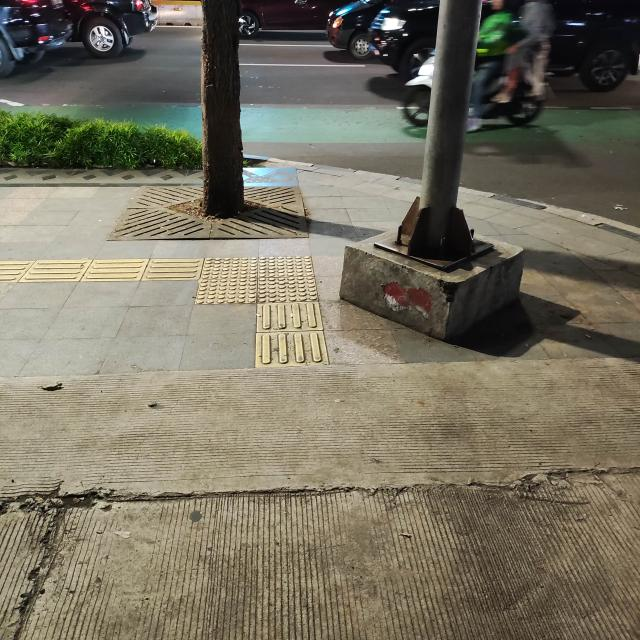kiri: (138, 249, 329, 321)
